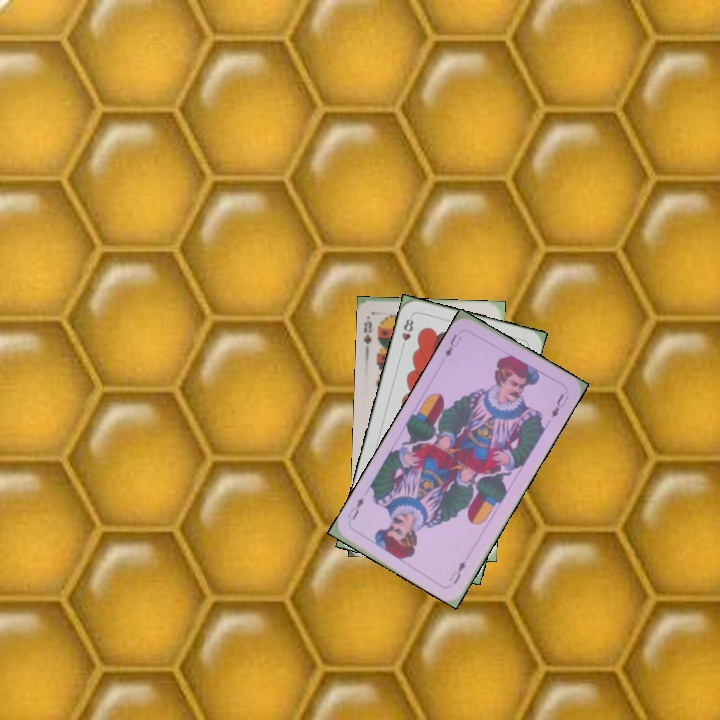EU: (444, 557, 468, 587), (441, 330, 464, 360)
H8: (397, 312, 416, 352)
S8: (360, 317, 374, 347)
